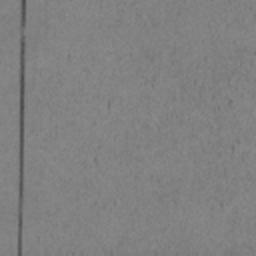Scratches: (17, 0, 27, 256)
